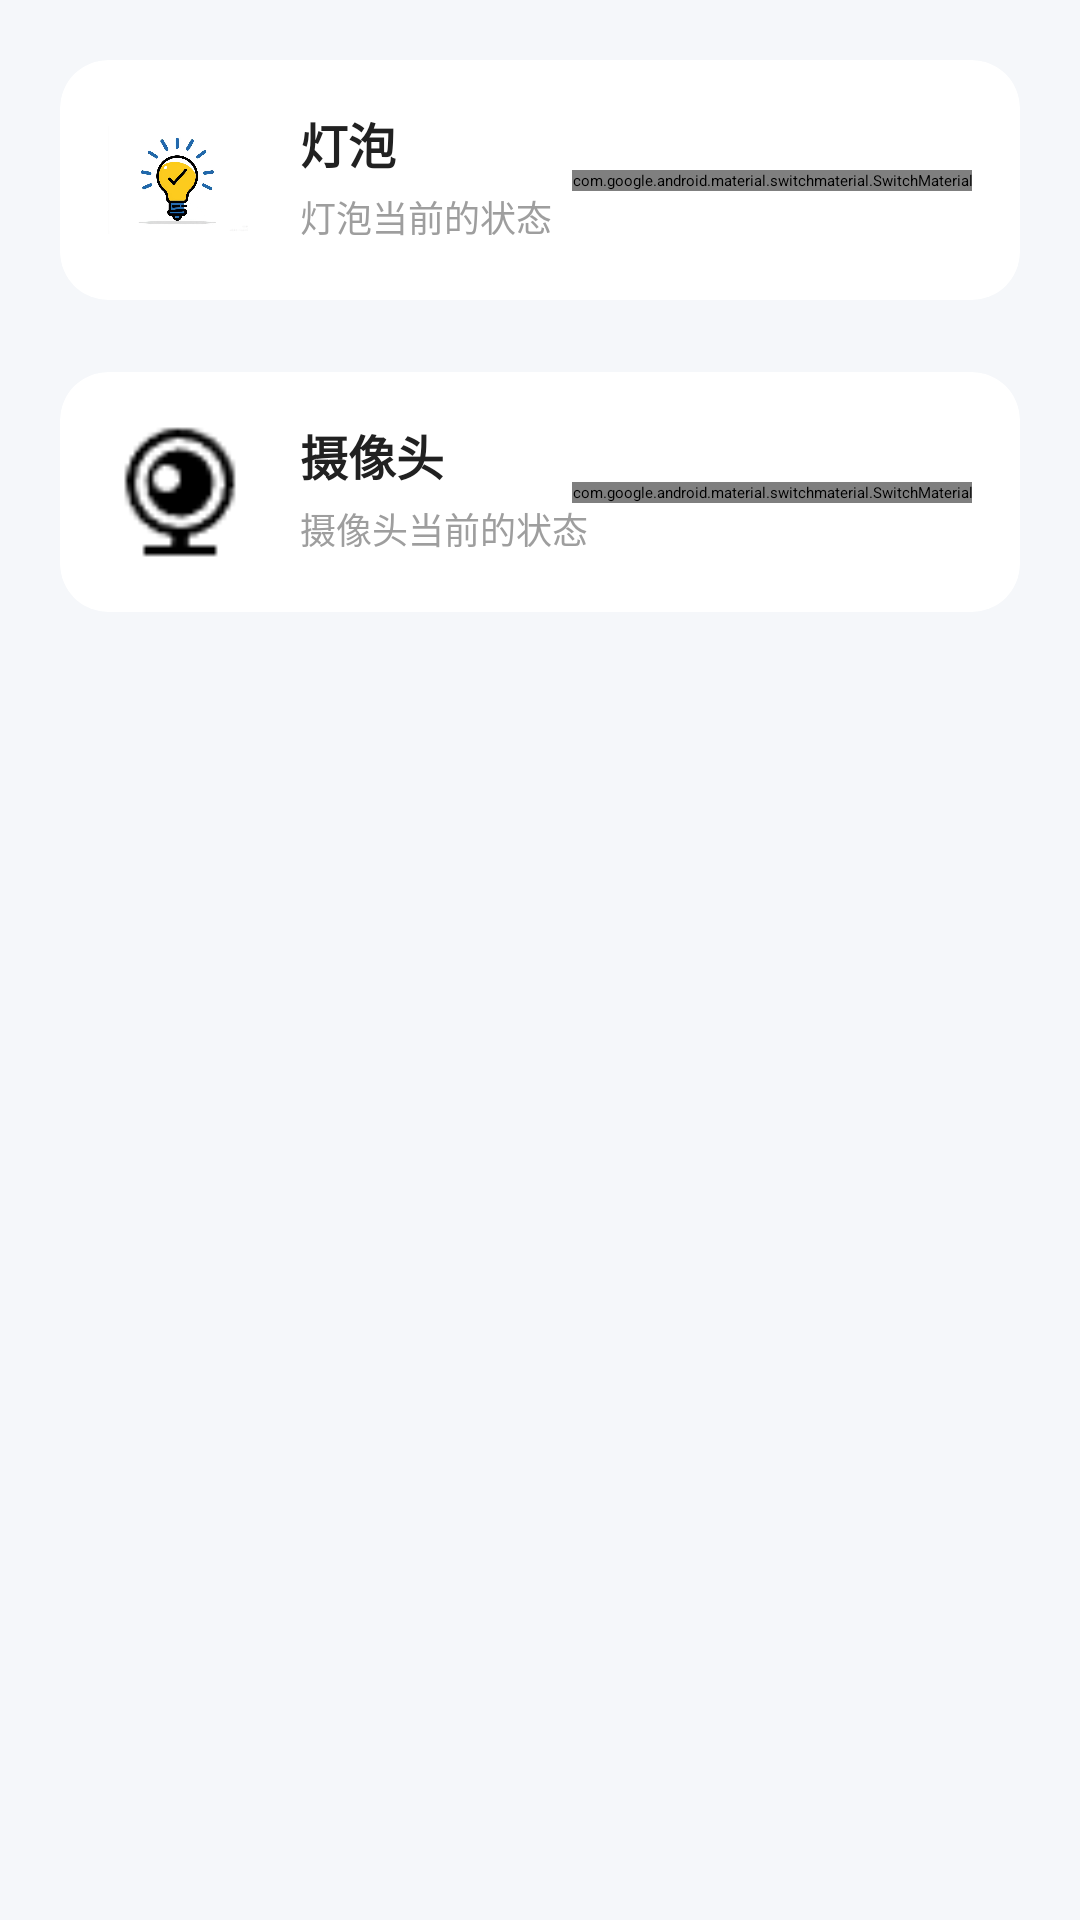

Screen size 1080w x 1920h. Icon name, then its center in pixels as (x=x, y=y):
camera: (x=180, y=492)
